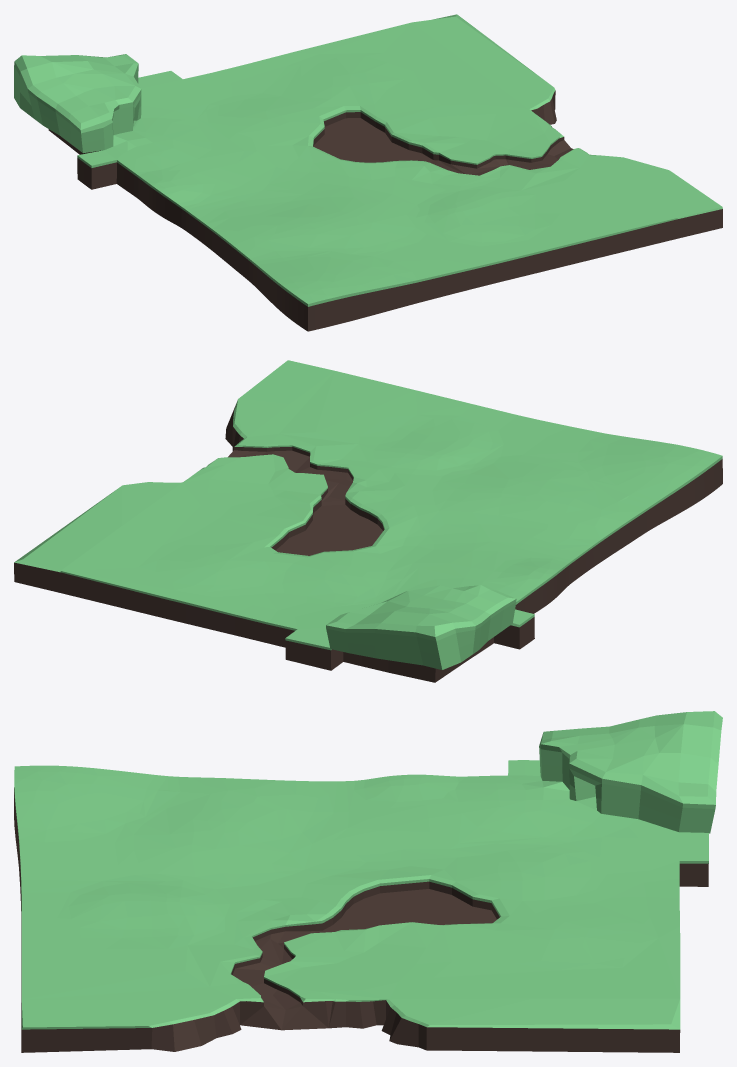
The model's file is Terrain_Forest_v2.fbx.
3 views of the same model, one above another, from view 1: azimuth 30°, elevation 25°; view 2: azimuth 150°, elevation 25°; view 3: azimuth 270°, elevation 25° (orthographic). The views are drawn at different scales.
Parts seen in each view (by area): view 1: Plane; view 2: Plane; view 3: Plane.
Boxes of the visible parts, x1,y1,x2,y2 form: Plane: (14, 14, 722, 331); Plane: (14, 360, 722, 682); Plane: (14, 711, 722, 1052).
Bounding box in the file's own units: 4665 × 717 × 5277.
